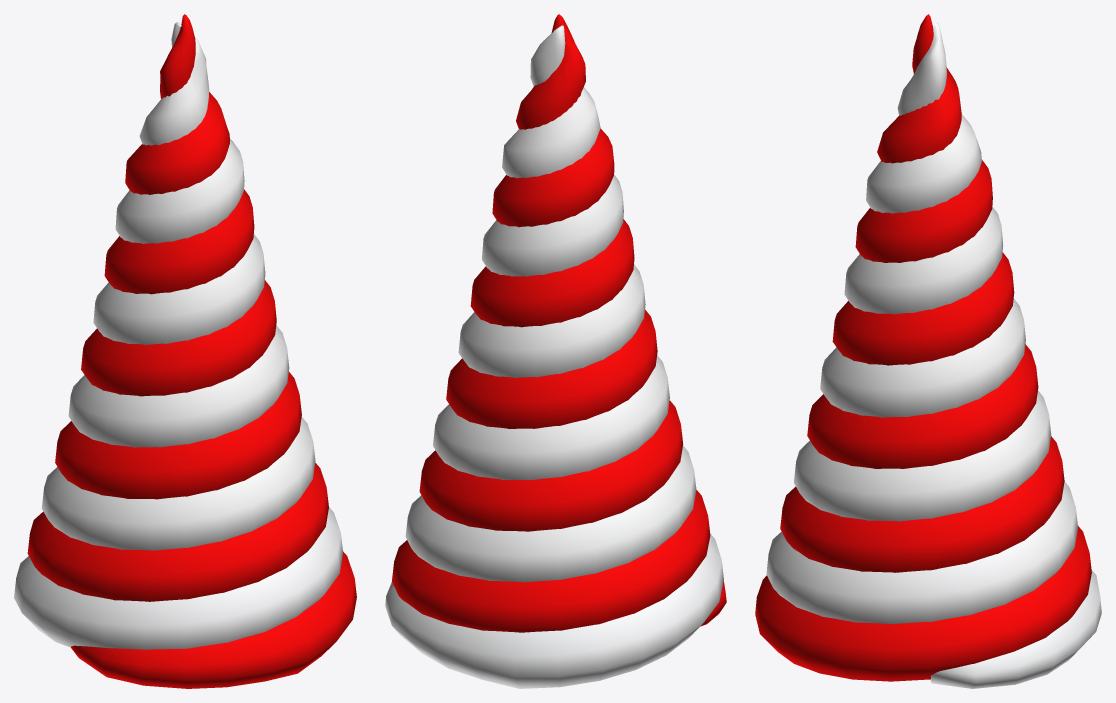
The model's file is caramel_cone_001.glb.
3 renders of one model, left to right at view 1: azimuth 30°, elevation 25°; view 2: azimuth 150°, elevation 25°; view 3: azimuth 270°, elevation 25°, orthographic.
Parts seen in each view (by area): view 1: caramel_cone_001; view 2: caramel_cone_001; view 3: caramel_cone_001.
Part boxes in pixels (x1,y1,x2,y2): caramel_cone_001: (14,14,356,688); caramel_cone_001: (385,14,726,688); caramel_cone_001: (755,14,1101,688).
Size of the model in its own units: 6.68 by 13.46 by 6.83.
Materials: 1 (1 with a texture image).
